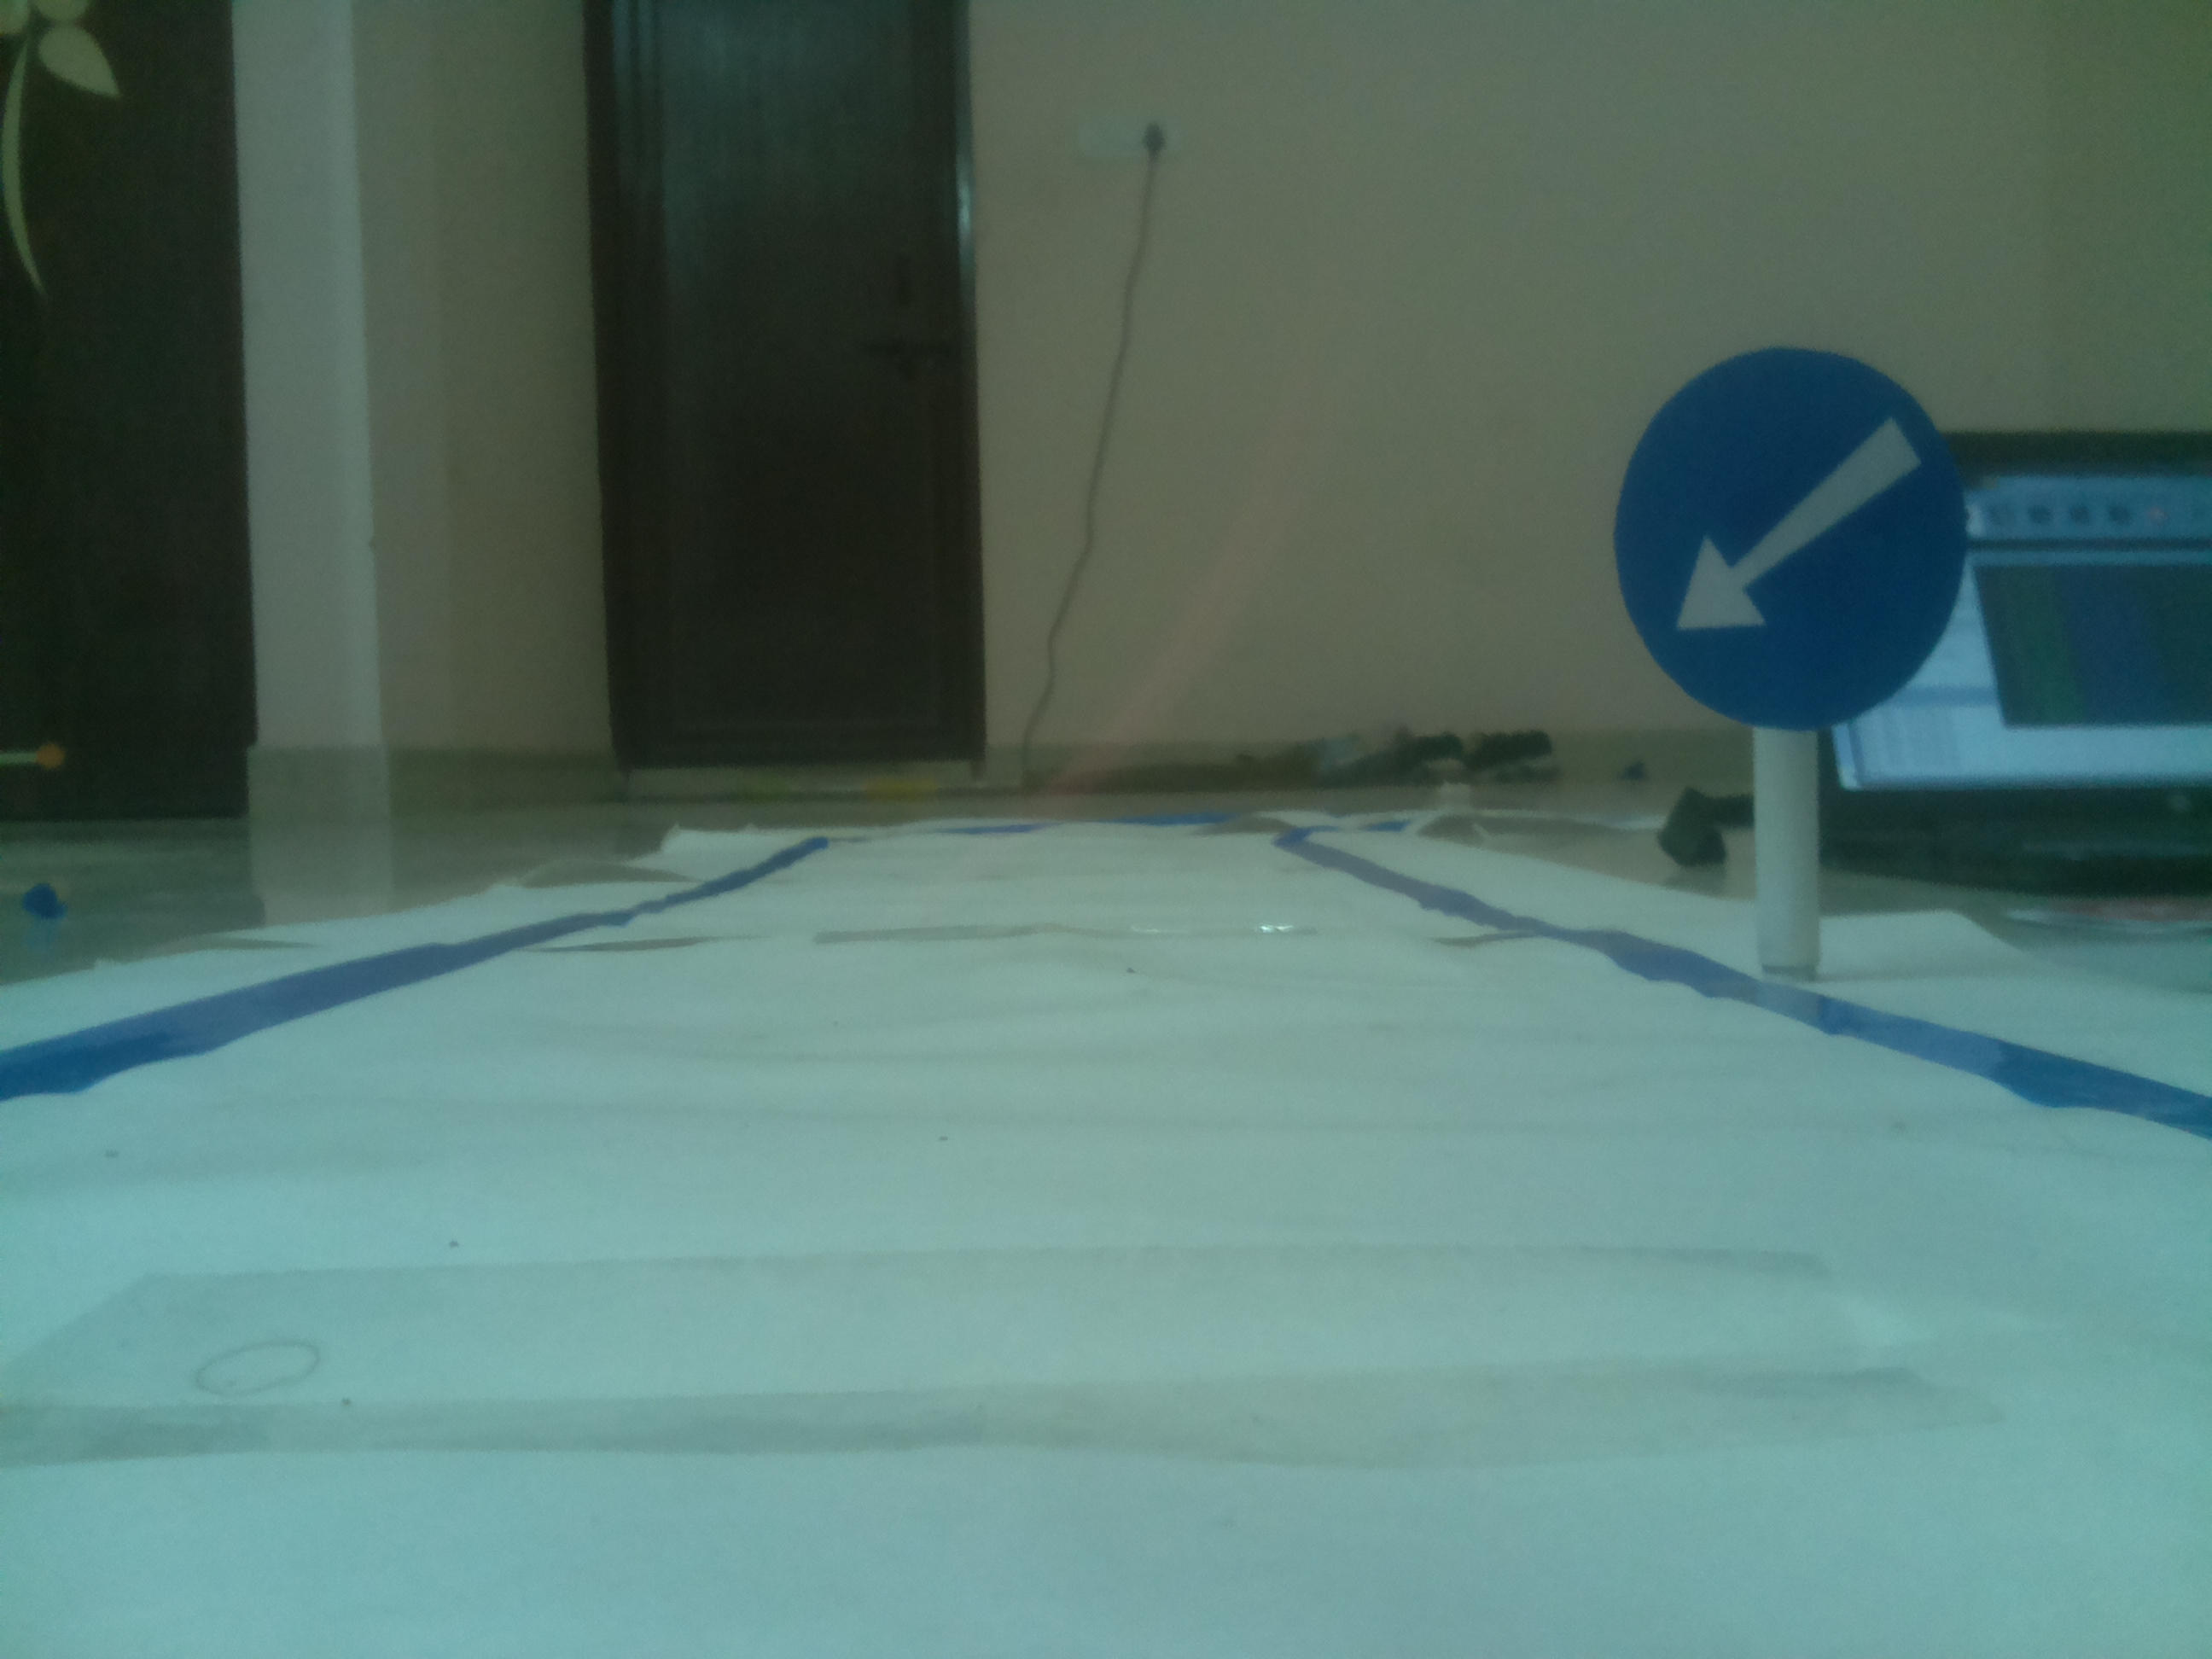keep-left: (1615, 364, 1975, 728)
